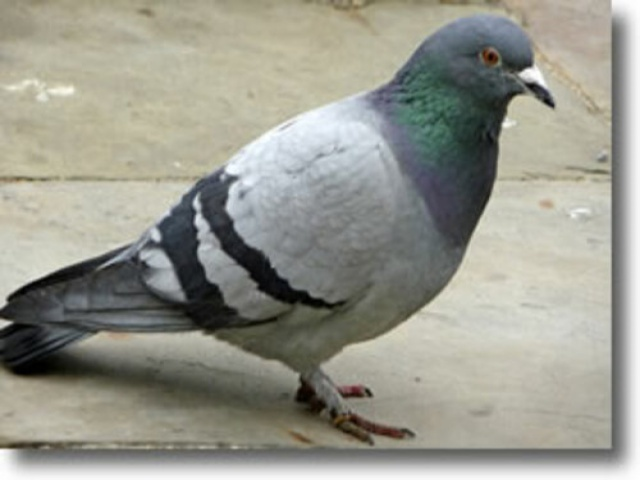Pigeon: (1, 10, 561, 443)
